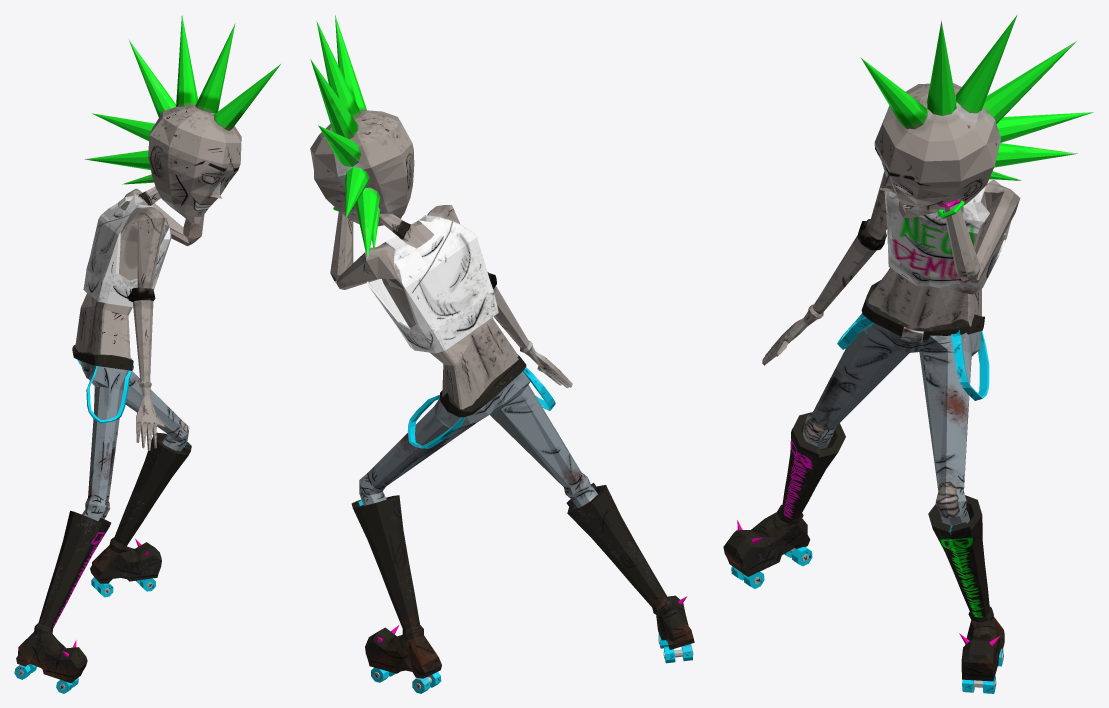
The model's file is punkAnimation_000062.obj.
3 views of the same model, side by side, from view 1: azimuth 30°, elevation 25°; view 2: azimuth 150°, elevation 25°; view 3: azimuth 270°, elevation 25° (orthographic). The views are drawn at different scales.
Visible parts, largest first — view 1: Cube.004_Cube.003; view 2: Cube.004_Cube.003; view 3: Cube.004_Cube.003.
Part boxes in pixels (<box>): Cube.004_Cube.003: <box>14,15,280,693</box>; Cube.004_Cube.003: <box>310,15,694,693</box>; Cube.004_Cube.003: <box>723,14,1093,693</box>.
Bounding box in the file's own units: 3.68 × 6.67 × 3.12.
